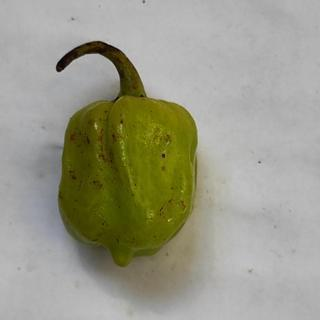Fly-bites: (108, 130, 123, 146), (82, 133, 97, 147), (159, 148, 170, 163), (116, 116, 128, 128), (165, 195, 175, 207), (69, 173, 78, 182)
